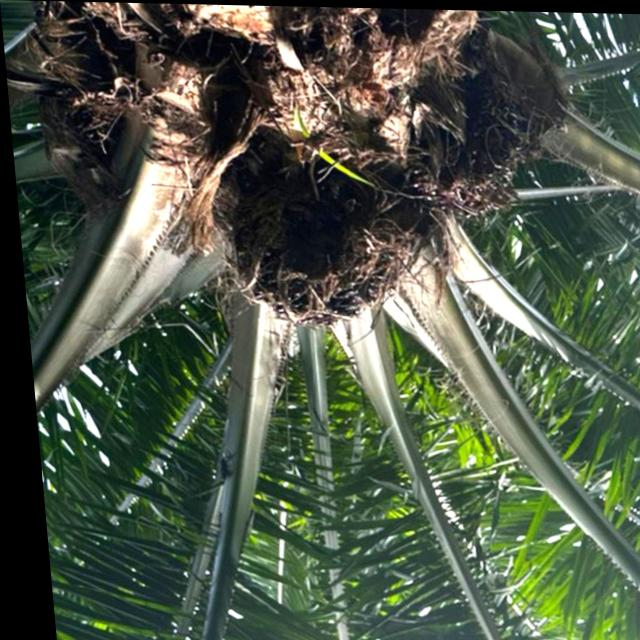unripe: (211, 146, 410, 333)
